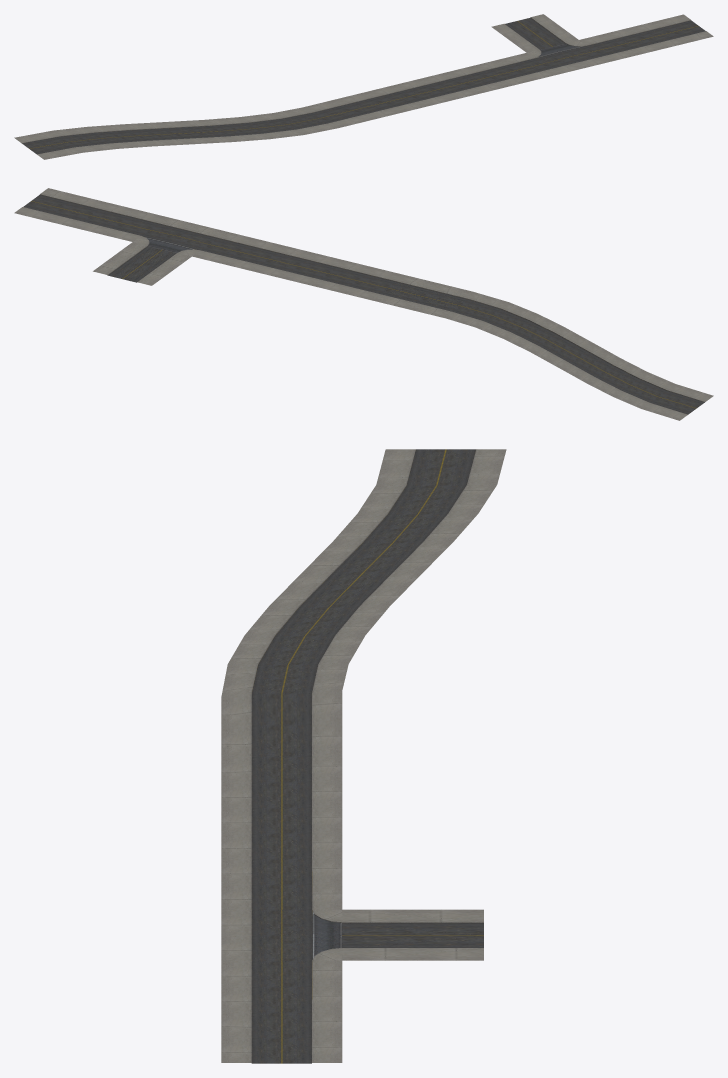
The model's file is vegasnroad56.obj.
3 views of the same model, one above another, from view 1: azimuth 30°, elevation 25°; view 2: azimuth 150°, elevation 25°; view 3: azimuth 270°, elevation 25° (orthographic). The views are drawn at different scales.
Parts seen in each view (by area): view 1: vegasNroad56; view 2: vegasNroad56; view 3: vegasNroad56.
Part boxes in pixels (x1,y1,x2,y2): vegasNroad56: (14,14,713,159); vegasNroad56: (14,188,713,420); vegasNroad56: (221,449,506,1063).
Size of the model in its own units: 240 by 0.2216 by 47.16.
Materials: 4 (4 with a texture image).
